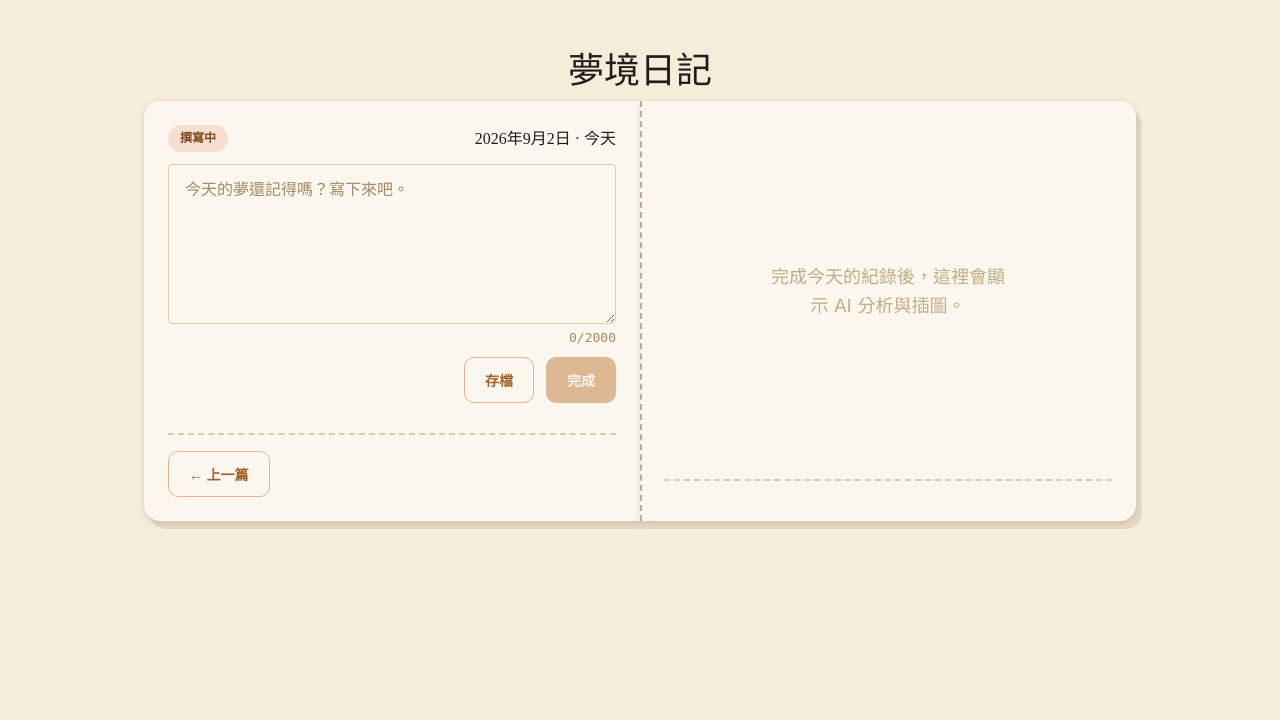
Test: JournalPage › offers no delete entry point when browsing a past completed record
The width and height of the screenshot is (1280, 720).
Click the button "← 上一篇".
click(219, 474)  # box [168,451,270,497]
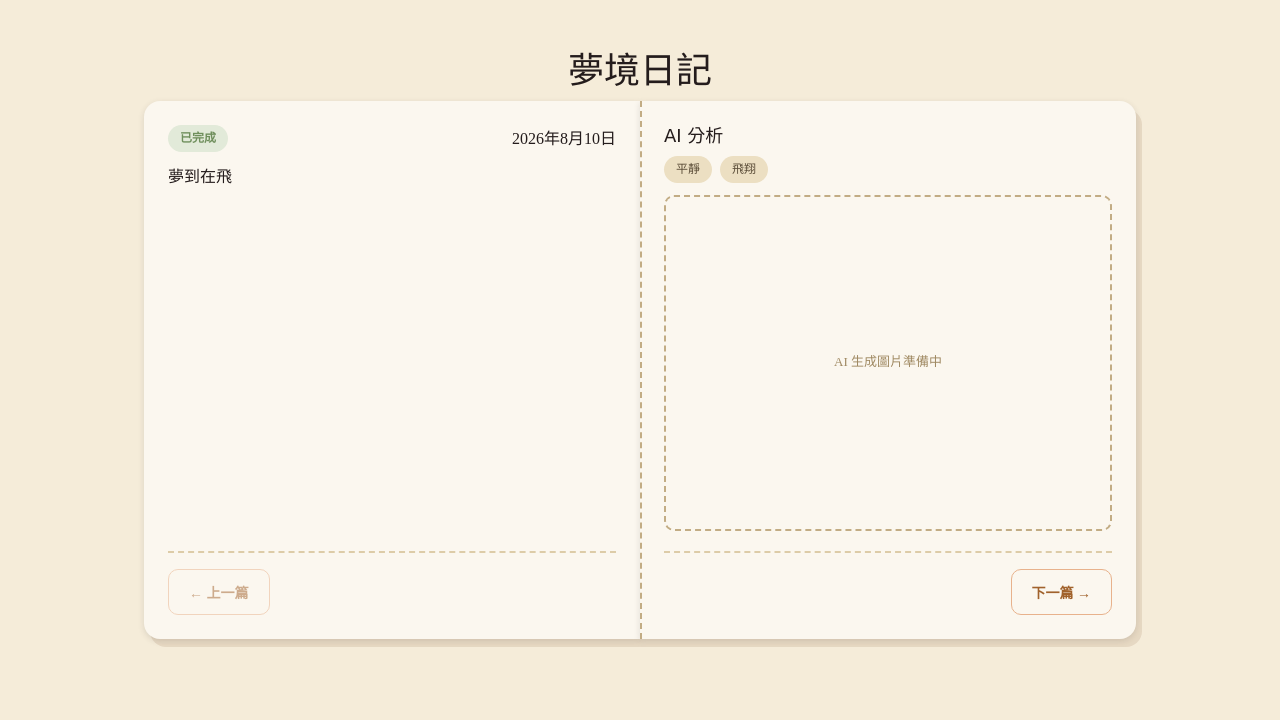
Result: the text "已完成" is shown at [168,125,228,152]
